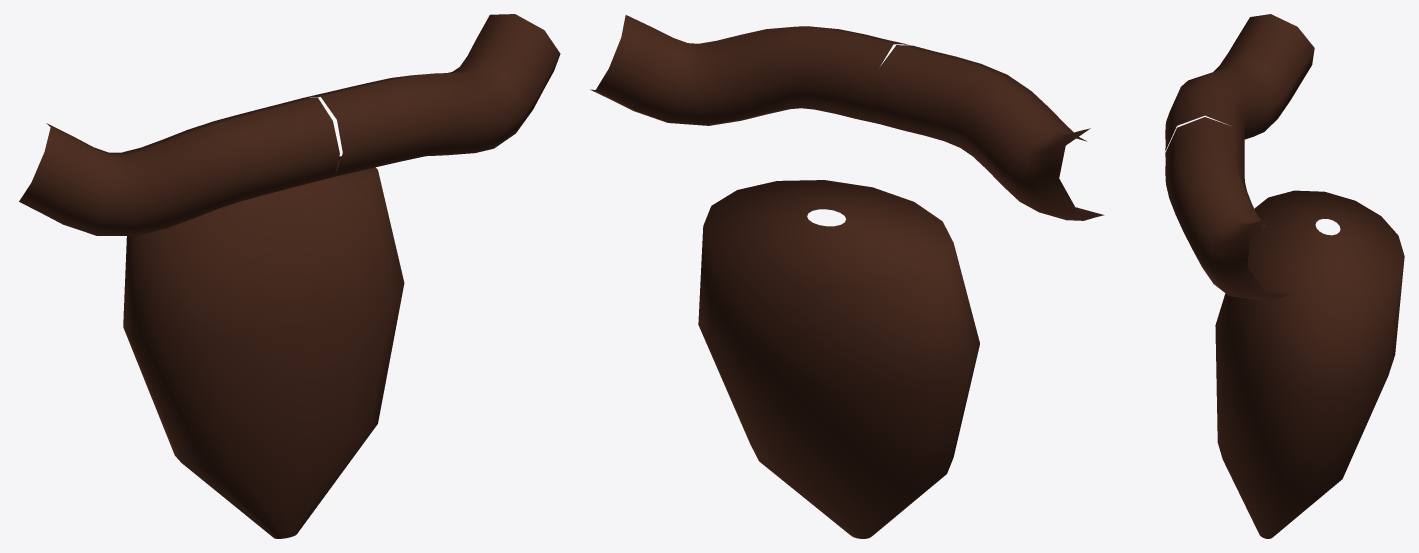
File: goatee.glb
3 views of the same model, side by side, from view 1: azimuth 30°, elevation 25°; view 2: azimuth 150°, elevation 25°; view 3: azimuth 270°, elevation 25° (orthographic). The views are drawn at different scales.
Parts seen in each view (by area): view 1: goatee_chin, mustache_-1, mustache_1; view 2: goatee_chin, mustache_1, mustache_-1; view 3: goatee_chin, mustache_1, mustache_-1.
Boxes of the visible parts, x1,y1,x2,y2 form: goatee_chin: (123, 156, 404, 538); mustache_-1: (19, 97, 339, 236); mustache_1: (305, 14, 560, 176); goatee_chin: (698, 180, 979, 538); mustache_1: (590, 15, 907, 125); mustache_-1: (873, 45, 1104, 220); goatee_chin: (1215, 190, 1404, 538); mustache_1: (1165, 117, 1290, 300); mustache_-1: (1165, 14, 1314, 151).
Size of the model in its own units: 0.1538 by 0.1276 by 0.066.
